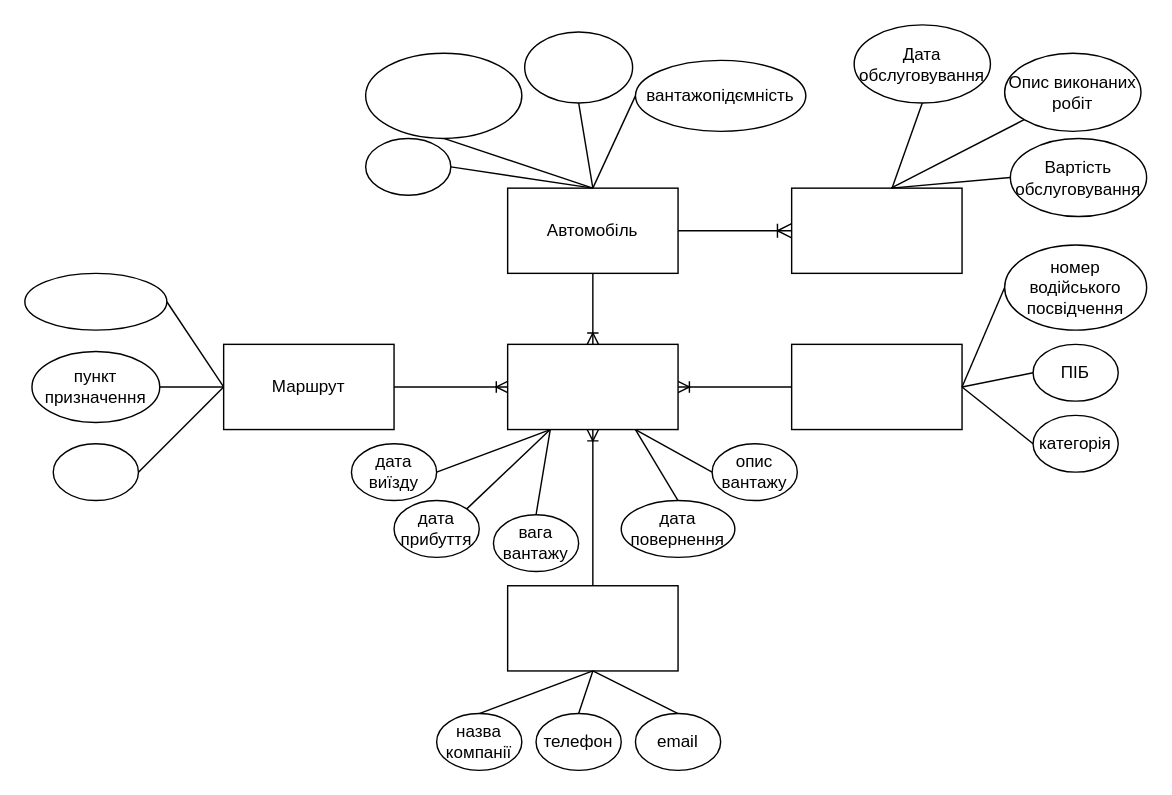
This 1172x795 diagram has some shape labels left out. The centre of each missing label's shape, as x and y in pixels:
"VIN" goes at point 407,166.
"Водій" goes at point 876,386.
"відстань" goes at point 95,471.
"Клієнт" goes at point 592,627.
"марка автомобіля" goes at point 578,67.
"Обслуговування" goes at point 876,230.
"пункт відправлення" goes at point 95,301.
"Рейс" goes at point 592,386.
"реєстраційний номер автомобіля" goes at point 443,95.
